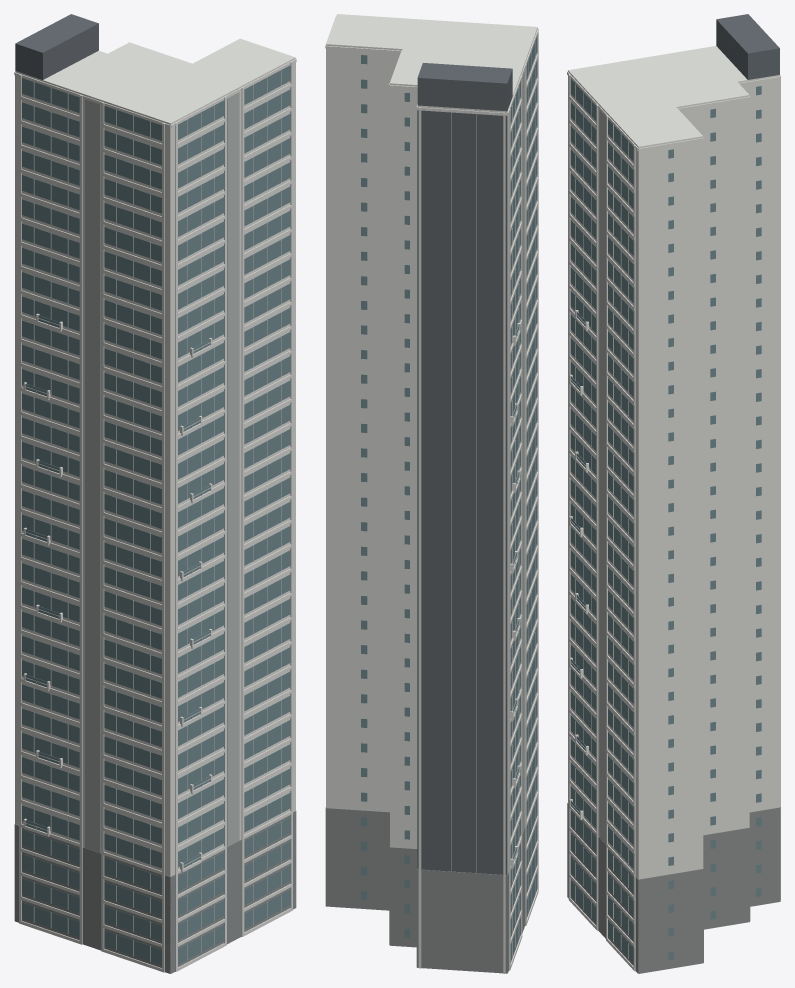
The model's file is bespoke-seocho-grand-xi-109.glb.
3 views of the same model, side by side, from view 1: azimuth 30°, elevation 25°; view 2: azimuth 150°, elevation 25°; view 3: azimuth 270°, elevation 25° (orthographic). The views are drawn at different scales.
Parts seen in each view (by area): view 1: GrandXi109_editable_GrandXi109_turquoise_balcony_glazing002, GrandXi109_editable_GrandXi109_broad_white_facade_frames002, GrandXi109_editable_GrandXi109_light_grey_solid_wall002, GrandXi109_editable_GrandXi109_grey_stone_lower_storeys002, GrandXi109_editable_GrandXi109_109_charcoal_solid_endwall002; view 2: GrandXi109_editable_GrandXi109_broad_white_facade_frames002, GrandXi109_editable_GrandXi109_109_charcoal_solid_endwall002, GrandXi109_editable_GrandXi109_grey_stone_lower_storeys002, GrandXi109_editable_GrandXi109_turquoise_balcony_glazing002, GrandXi109_editable_GrandXi109_light_grey_solid_wall002; view 3: GrandXi109_editable_GrandXi109_broad_white_facade_frames002, GrandXi109_editable_GrandXi109_turquoise_balcony_glazing002, GrandXi109_editable_GrandXi109_grey_stone_lower_storeys002, GrandXi109_editable_GrandXi109_light_grey_solid_wall002, GrandXi109_editable_GrandXi109_109_charcoal_solid_endwall002.
Part boxes in pixels (x1,y1,x2,y2): GrandXi109_editable_GrandXi109_turquoise_balcony_glazing002: (22, 65, 290, 965); GrandXi109_editable_GrandXi109_broad_white_facade_frames002: (14, 38, 296, 973); GrandXi109_editable_GrandXi109_light_grey_solid_wall002: (25, 89, 239, 865); GrandXi109_editable_GrandXi109_grey_stone_lower_storeys002: (14, 811, 296, 973); GrandXi109_editable_GrandXi109_109_charcoal_solid_endwall002: (15, 14, 98, 79); GrandXi109_editable_GrandXi109_broad_white_facade_frames002: (325, 14, 538, 973); GrandXi109_editable_GrandXi109_109_charcoal_solid_endwall002: (417, 63, 512, 874); GrandXi109_editable_GrandXi109_grey_stone_lower_storeys002: (325, 807, 536, 973); GrandXi109_editable_GrandXi109_turquoise_balcony_glazing002: (361, 36, 537, 959); GrandXi109_editable_GrandXi109_light_grey_solid_wall002: (451, 67, 524, 873); GrandXi109_editable_GrandXi109_broad_white_facade_frames002: (567, 46, 780, 971); GrandXi109_editable_GrandXi109_turquoise_balcony_glazing002: (570, 79, 761, 963); GrandXi109_editable_GrandXi109_grey_stone_lower_storeys002: (567, 803, 780, 973); GrandXi109_editable_GrandXi109_light_grey_solid_wall002: (570, 107, 606, 843); GrandXi109_editable_GrandXi109_109_charcoal_solid_endwall002: (716, 14, 779, 79).
Size of the model in its own units: 29.46 by 109 by 24.85.
